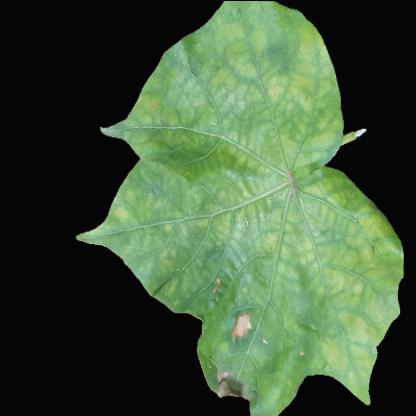curl_stage1: (222, 22, 312, 212), (145, 99, 228, 259), (313, 177, 365, 370), (241, 218, 299, 316), (111, 201, 144, 249)
